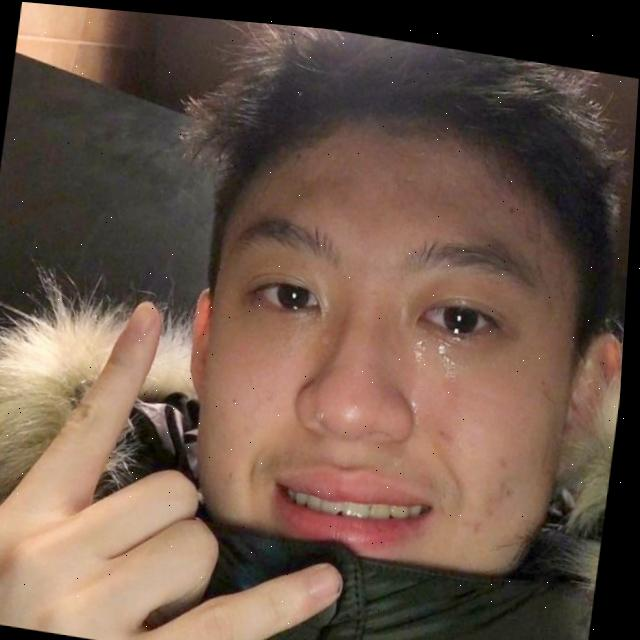happy: (200, 148, 576, 565)
